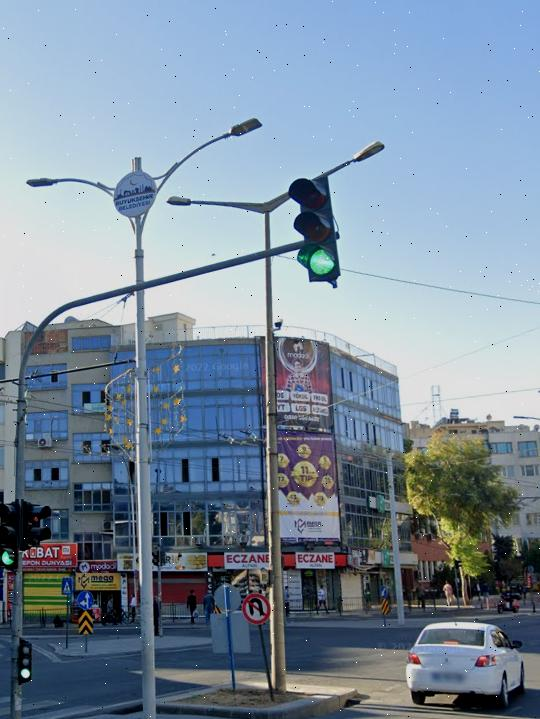greenlight: (295, 175, 339, 287), (0, 497, 20, 574)
